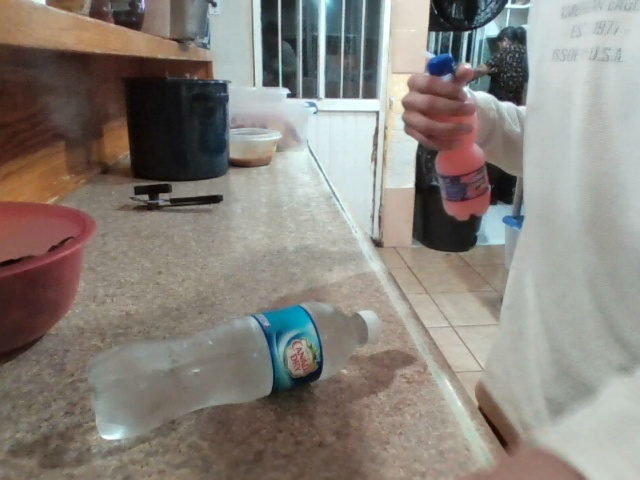botella: (67, 287, 401, 459), (373, 53, 545, 259)
